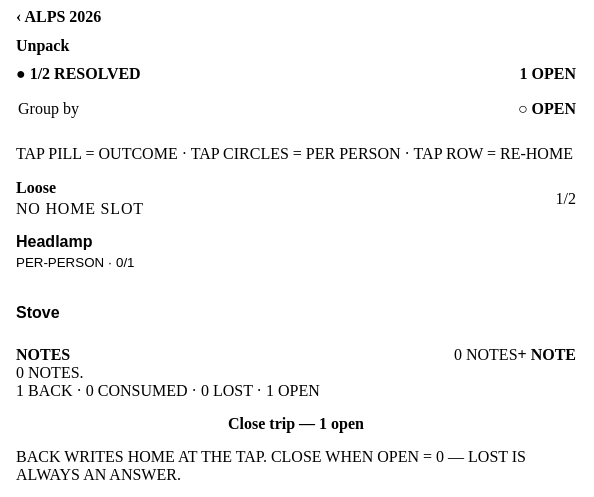
the controls (F4) › gains a ✕ once the filter is tapped
Expected: the element with test id "unpack-open-filter" does not show "✕"
Click the button with test id "unpack-open-filter": (547,109) [518, 89, 576, 129]
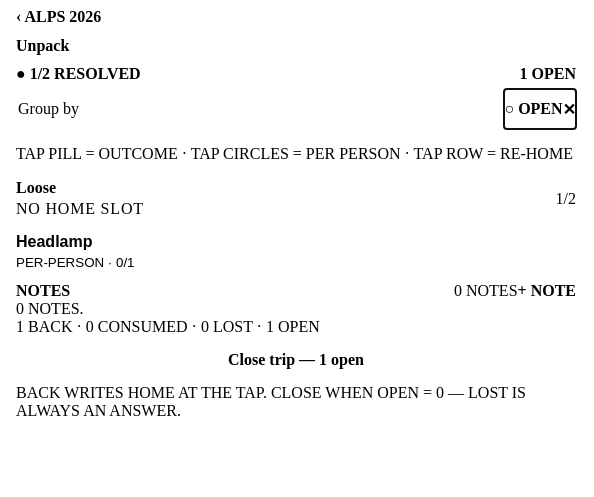
Now the button with test id "unpack-open-filter" shows "✕", box [504, 89, 576, 129]
